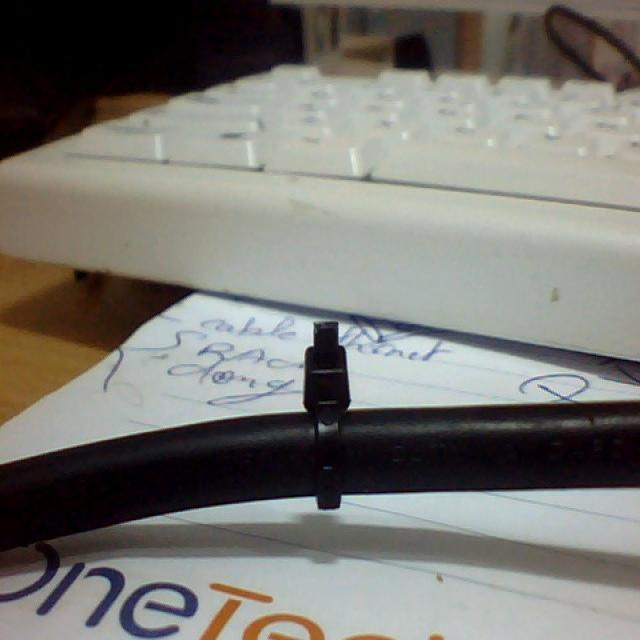cable-tie: (296, 319, 358, 511)
